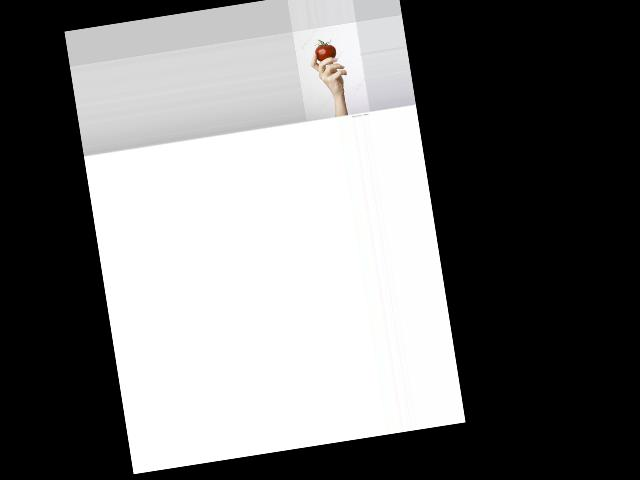tomato: (313, 37, 337, 61)
